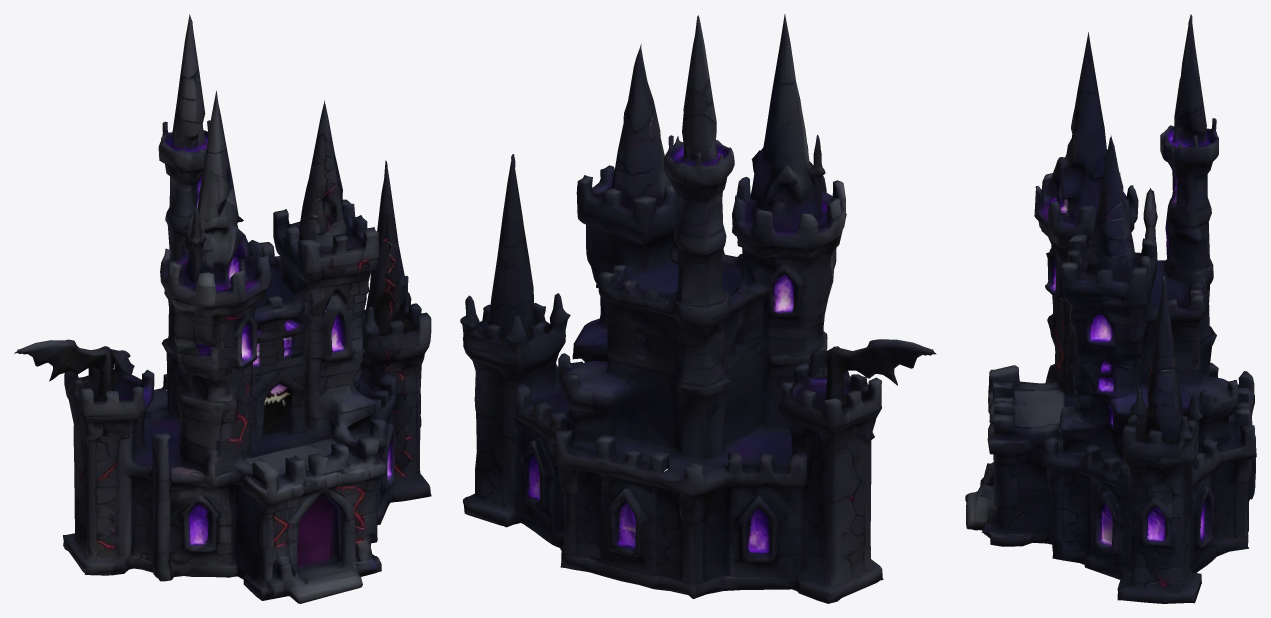
Rendered from dcastle.glb.
3 renders of one model, left to right at view 1: azimuth 30°, elevation 25°; view 2: azimuth 150°, elevation 25°; view 3: azimuth 270°, elevation 25°, orthographic. The views are drawn at different scales.
Parts seen in each view (by area): view 1: tripo_node_fbc357c8; view 2: tripo_node_fbc357c8; view 3: tripo_node_fbc357c8.
Part boxes in pixels (x1,y1,x2,y2): tripo_node_fbc357c8: (14, 14, 431, 603); tripo_node_fbc357c8: (460, 14, 936, 603); tripo_node_fbc357c8: (965, 14, 1256, 603).
Bounding box in the file's own units: 84.78 × 98.66 × 53.25.
Materials: 1 (1 with a texture image).
